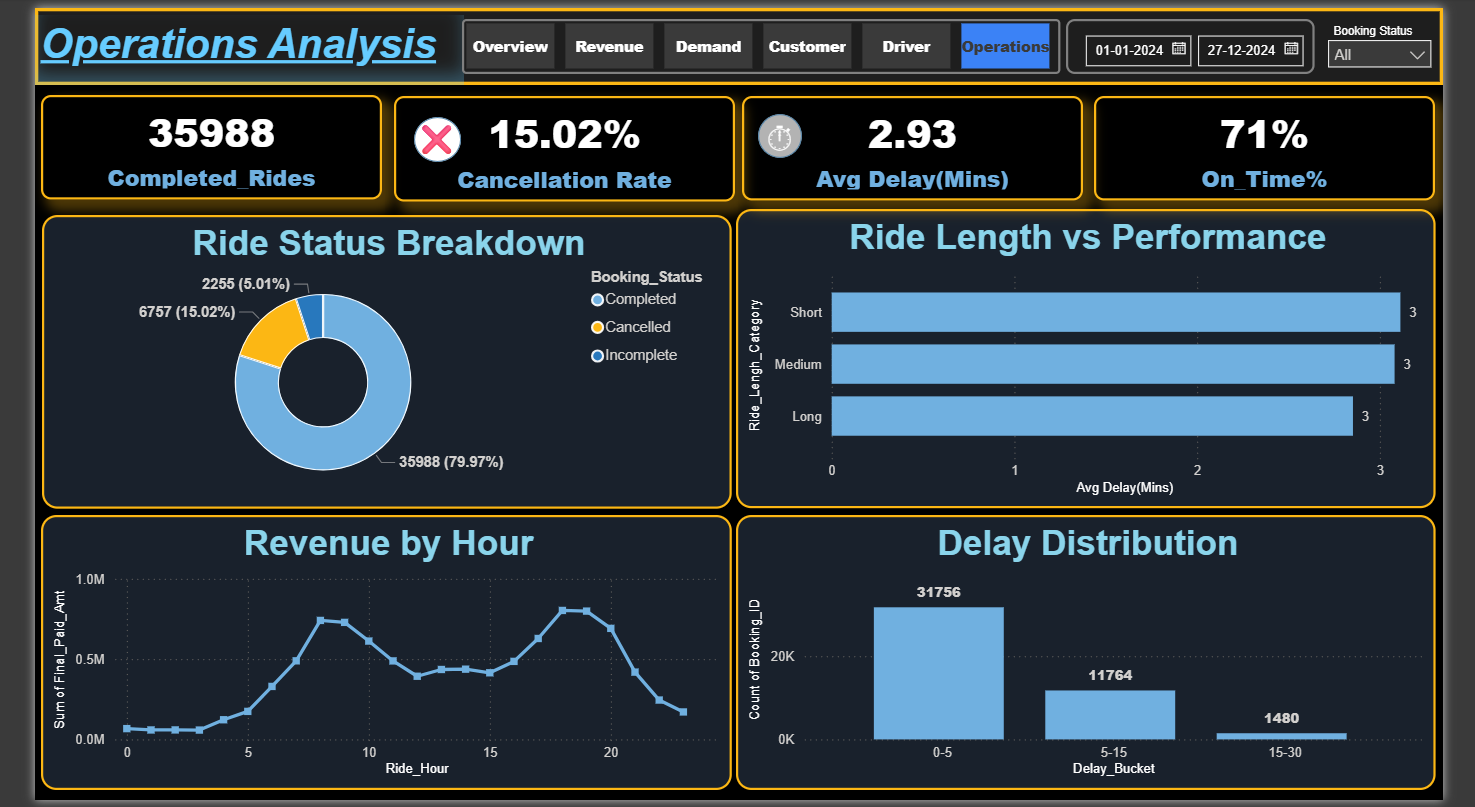

What the dashboard file says about the page in this screenshot:
{"tool":"powerbi","page":{"name":"Operations","canvas":[1280,720],"ordinal":5},"visuals":[{"type":"clusteredBarChart","title":"Ride Length vs Performance","fields":{"Category":["Rides.Ride_Lengh_Category"],"Y":["All Measures.Avg Delay(Mins)"]},"box":[637,183,636,272],"z":0},{"type":"columnChart","title":"Delay Distribution","fields":{"Y":["CountNonNull(Rides.Booking_ID)"],"Category":["Rides.Delay_Bucket"]},"box":[637,461,636,250],"z":1000},{"type":"shape","box":[0,0,1280,70],"z":2000},{"type":"slicer","fields":{"Values":["Rides.Booking_Timestamp"]},"box":[937.3,10,226.4,50],"z":3000},{"type":"textbox","box":[0,6,390,64],"z":4000},{"type":"pageNavigator","box":[388.2,10,543.6,50],"z":5000},{"type":"slicer","fields":{"Values":["Rides.Booking_Status"]},"box":[1165,19,114,66],"z":6000},{"type":"textbox","box":[1175,7,86,25],"z":7000},{"type":"card","title":"Total Rides","fields":{"Values":["All Measures.On_Time%"]},"box":[962.7,80,310,95.5],"z":8000},{"type":"lineChart","title":"Revenue by Hour","fields":{"Category":["Rides.Ride_Hour"],"Y":["Sum(Rides.Final_Paid_Amt)"]},"box":[5,461,628,250],"z":9000},{"type":"card","title":"Total Customers","fields":{"Values":["All Measures.Completed_Rides"]},"box":[5,79,310,95.5],"z":10000},{"type":"card","title":"Avg Delay (in mins)","fields":{"Values":["All Measures.Avg Delay"]},"box":[643,80,310,95.5],"z":11000},{"type":"group","id":"g1","title":"Group 6","box":[656.9,94.3,45,48.2],"z":12000},{"type":"card","title":"Cancellation Rate %","fields":{"Values":["All Measures.Cancellation Rate"]},"box":[326,80,310,96.4],"z":13000},{"type":"group","id":"g2","title":"Group 7","box":[341.6,95,60,47.3],"z":14000},{"type":"donutChart","title":"Ride Status Breakdown","fields":{"Category":["Rides.Booking_Status"],"Y":["All Measures.Total Rides"]},"box":[6,188,627,267],"z":15000},{"type":"shape","box":[656.9,96,40,40],"z":17000,"group":"g1"},{"type":"shape","box":[344.6,98.6,42.9,40.9],"z":17000,"group":"g2"},{"type":"textbox","box":[659.2,94.3,42.7,48.2],"z":18000,"group":"g1"},{"type":"textbox","box":[341.6,95,60,47.3],"z":18000,"group":"g2"}]}

Visuals, with their boxes in screenshot pixels (x1, y1, x2, y2), scaled from the page's 1280x720 canvas onto the 1475x807 screenshot:
"Ride Length vs Performance" clusteredBarChart: (x1=734, y1=205, x2=1467, y2=510)
"Delay Distribution" columnChart: (x1=734, y1=517, x2=1467, y2=797)
shape: (x1=0, y1=0, x2=1474, y2=78)
slicer - Rides.Booking_Timestamp: (x1=1080, y1=11, x2=1341, y2=67)
textbox: (x1=0, y1=7, x2=449, y2=78)
pageNavigator: (x1=447, y1=11, x2=1074, y2=67)
slicer - Rides.Booking_Status: (x1=1342, y1=21, x2=1474, y2=95)
textbox: (x1=1354, y1=8, x2=1453, y2=36)
"Total Rides" card: (x1=1109, y1=90, x2=1467, y2=197)
"Revenue by Hour" lineChart: (x1=6, y1=517, x2=729, y2=797)
"Total Customers" card: (x1=6, y1=89, x2=363, y2=196)
"Avg Delay (in mins)" card: (x1=741, y1=90, x2=1098, y2=197)
"Group 6" group: (x1=757, y1=106, x2=809, y2=160)
"Cancellation Rate %" card: (x1=376, y1=90, x2=733, y2=198)
"Group 7" group: (x1=394, y1=106, x2=463, y2=159)
"Ride Status Breakdown" donutChart: (x1=7, y1=211, x2=729, y2=510)
shape: (x1=757, y1=108, x2=803, y2=152)
shape: (x1=397, y1=111, x2=447, y2=156)
textbox: (x1=760, y1=106, x2=809, y2=160)
textbox: (x1=394, y1=106, x2=463, y2=159)
